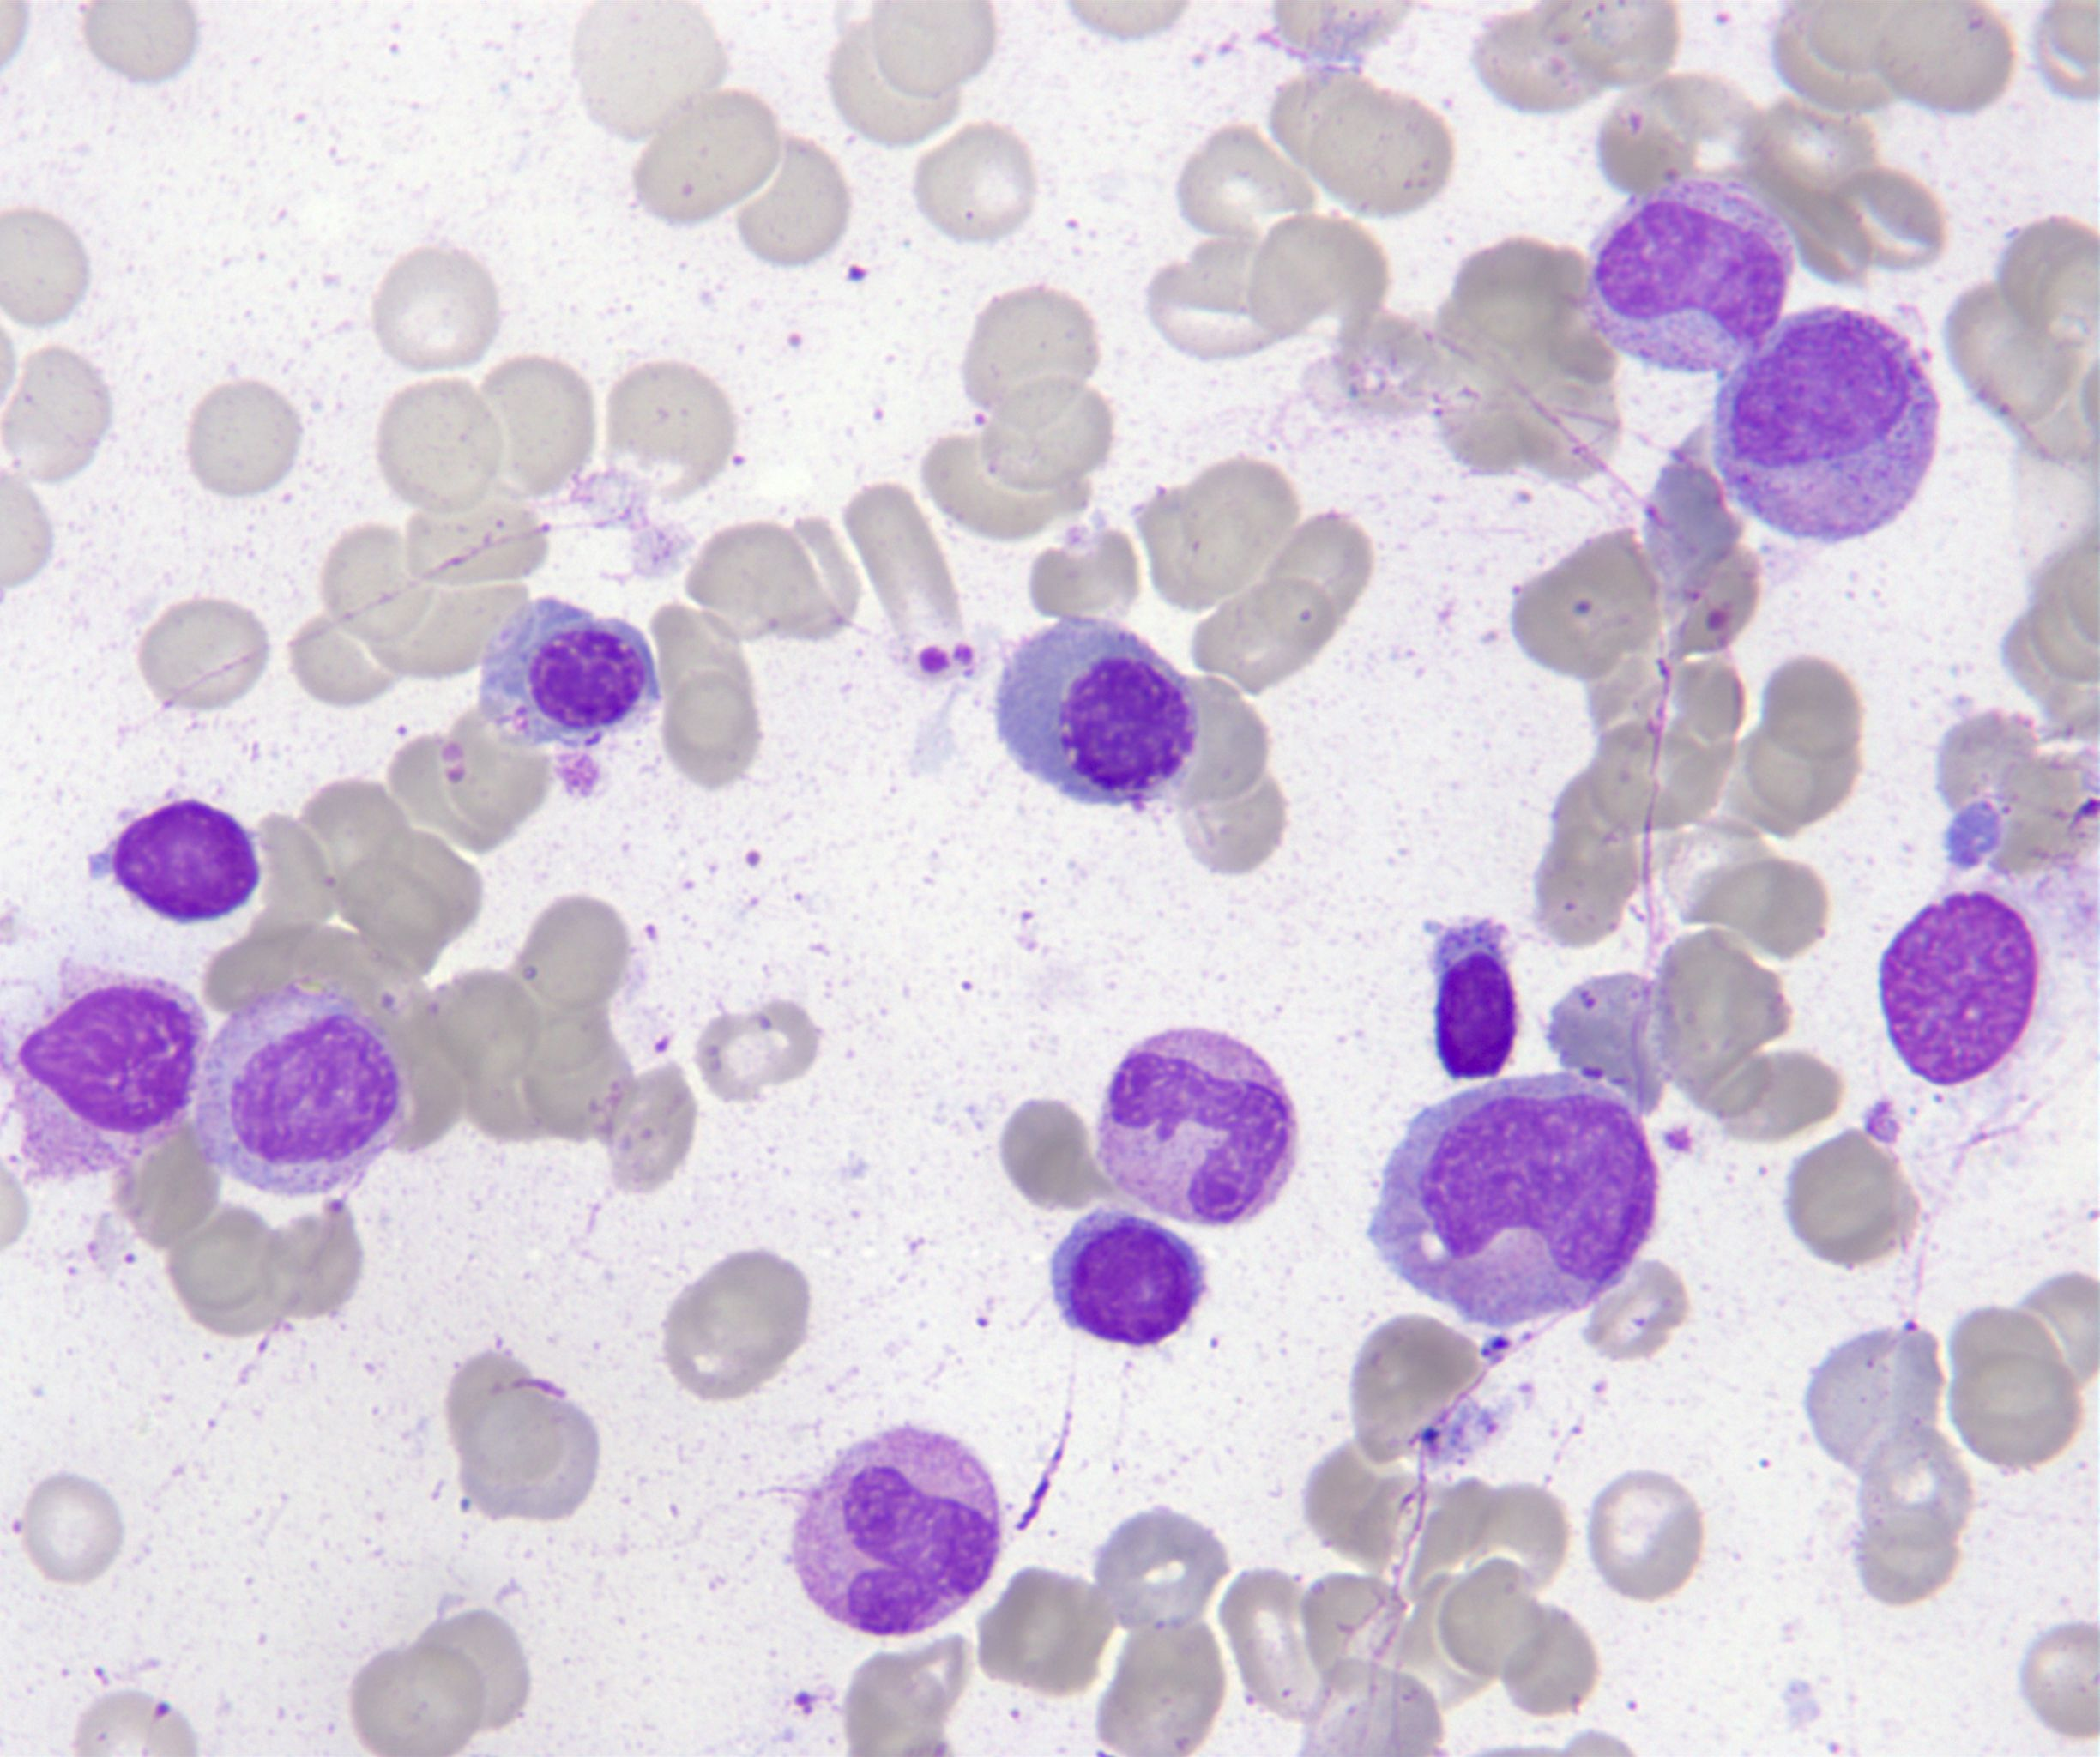24: (998, 616, 1197, 804), (481, 597, 663, 754)
3: (1371, 1075, 1657, 1328), (1715, 305, 1940, 539), (197, 995, 405, 1193), (1585, 180, 1793, 373)
32: (1052, 1209, 1207, 1349), (110, 801, 260, 925)
5: (1099, 1028, 1298, 1228)
6: (790, 1427, 999, 1638), (1430, 920, 1517, 1080)
x: (7, 963, 208, 1185), (1882, 892, 2039, 1085)
